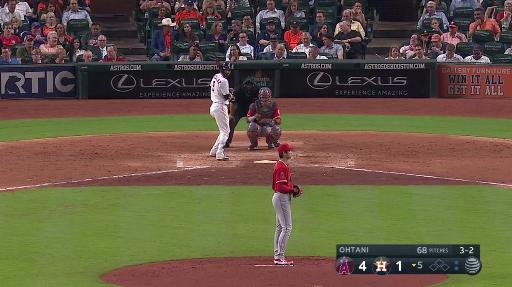pitcher: (272, 143, 305, 265)
